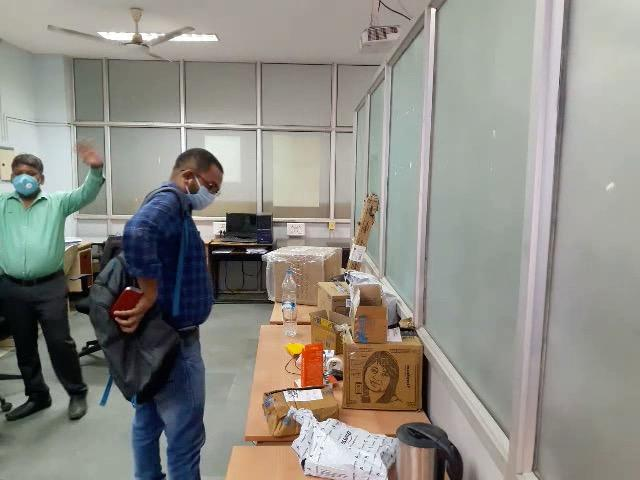shoplifting: (54, 221, 213, 440)
